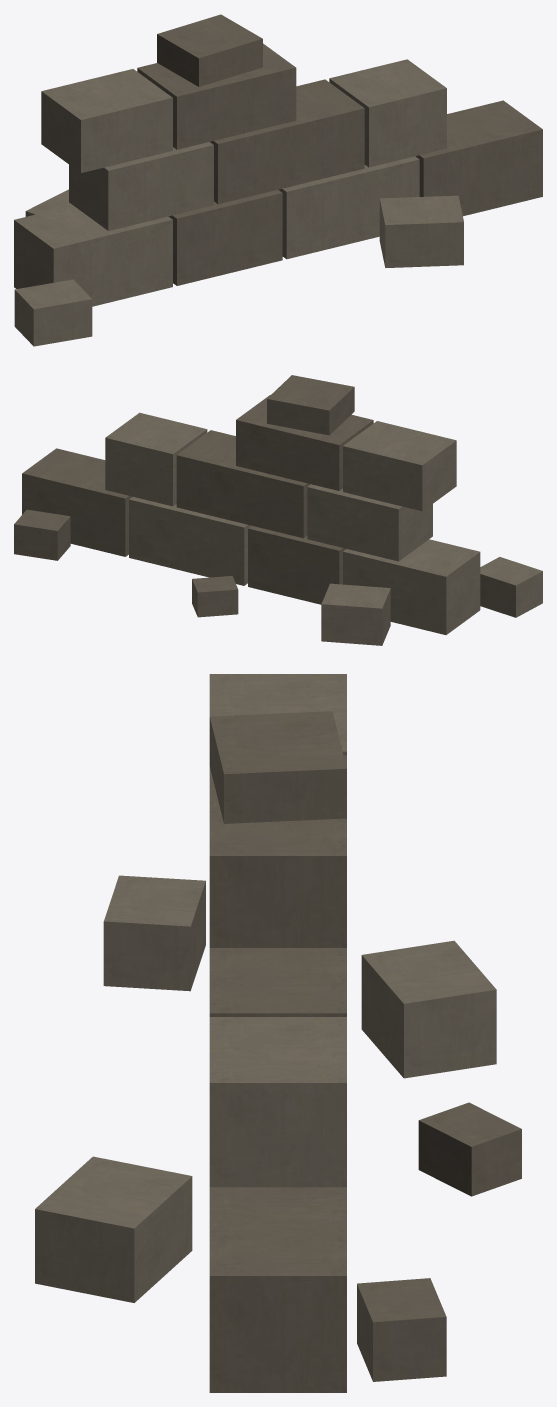
File: rubble_wall_01.glb
3 views of the same model, one above another, from view 1: azimuth 30°, elevation 25°; view 2: azimuth 150°, elevation 25°; view 3: azimuth 270°, elevation 25° (orthographic). The views are drawn at different scales.
Visible parts, largest first — view 1: rubble_wall_01; view 2: rubble_wall_01; view 3: rubble_wall_01.
Part boxes in pixels (<box>): rubble_wall_01: <box>14,14,542,346</box>; rubble_wall_01: <box>14,375,542,645</box>; rubble_wall_01: <box>35,674,521,1392</box>.
Size of the model in its own units: 3.91 by 1.55 by 1.78.
Materials: 2 (2 with a texture image).
